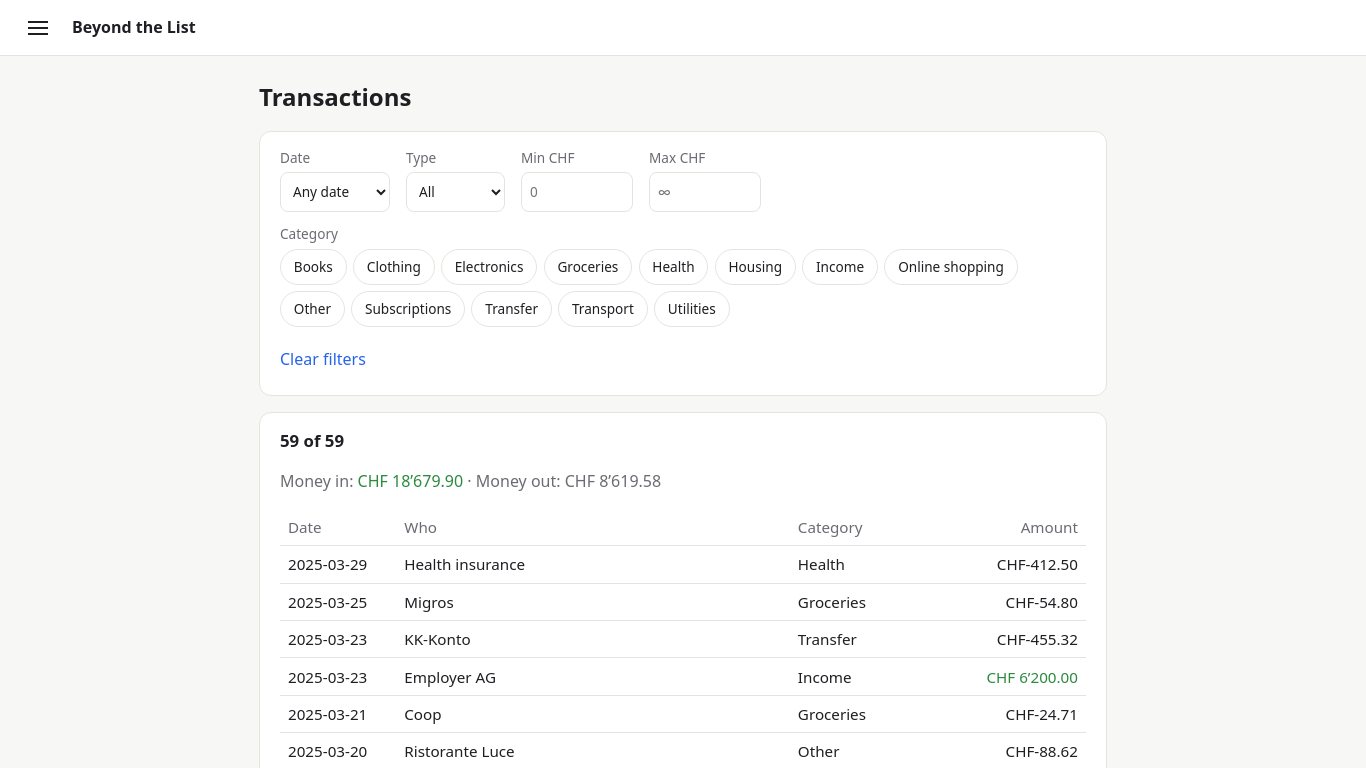
transactions filters › narrows the list by type, category and amount, and clears again
This screenshot has width=1366, height=768.
Expected: the heading "59 of 59" is shown, [280,429,344,452]
Select "Income" in the dropdown labelled "Type" at (456, 192), box [406,172,505,212]
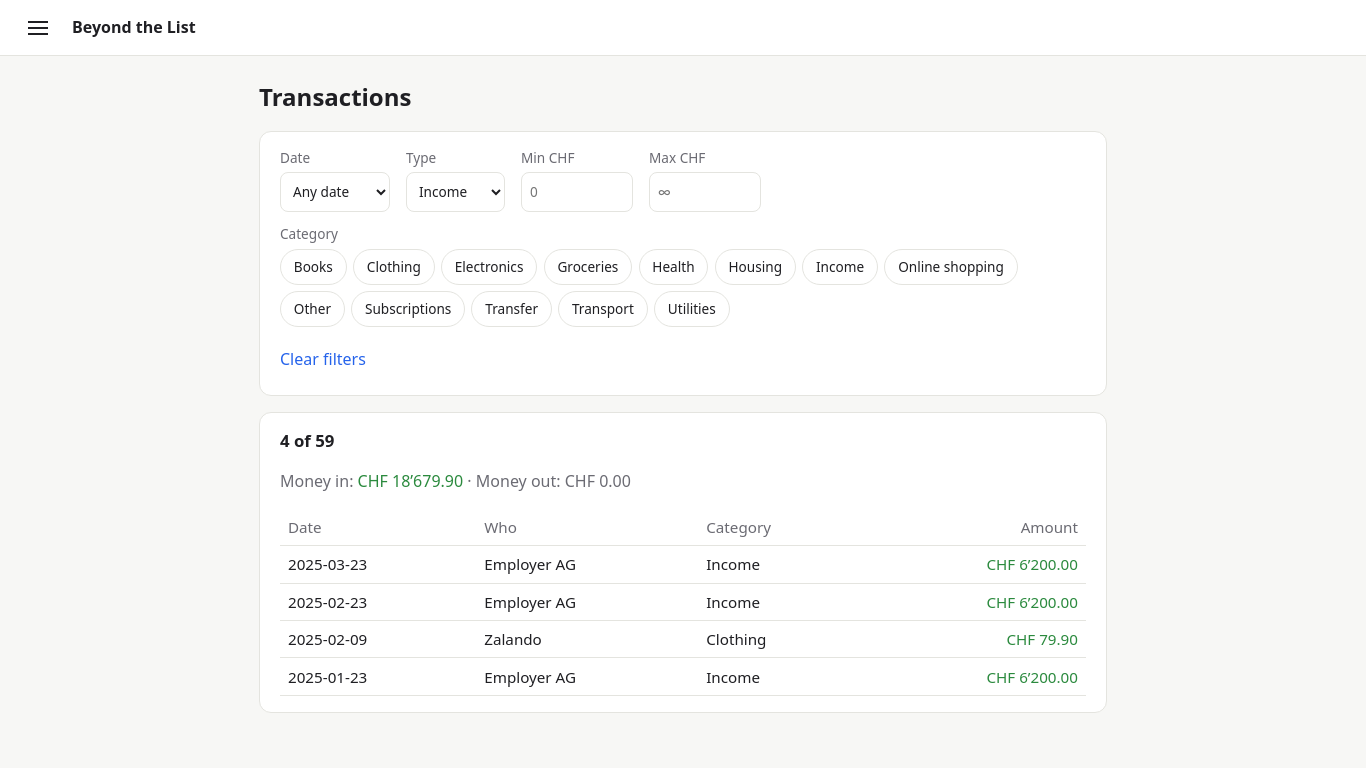
Now the heading "4 of 59" is shown, box [280,429,334,452]
Select "Spending" in the dropdown labelled "Type" at (456, 192), box [406,172,505,212]
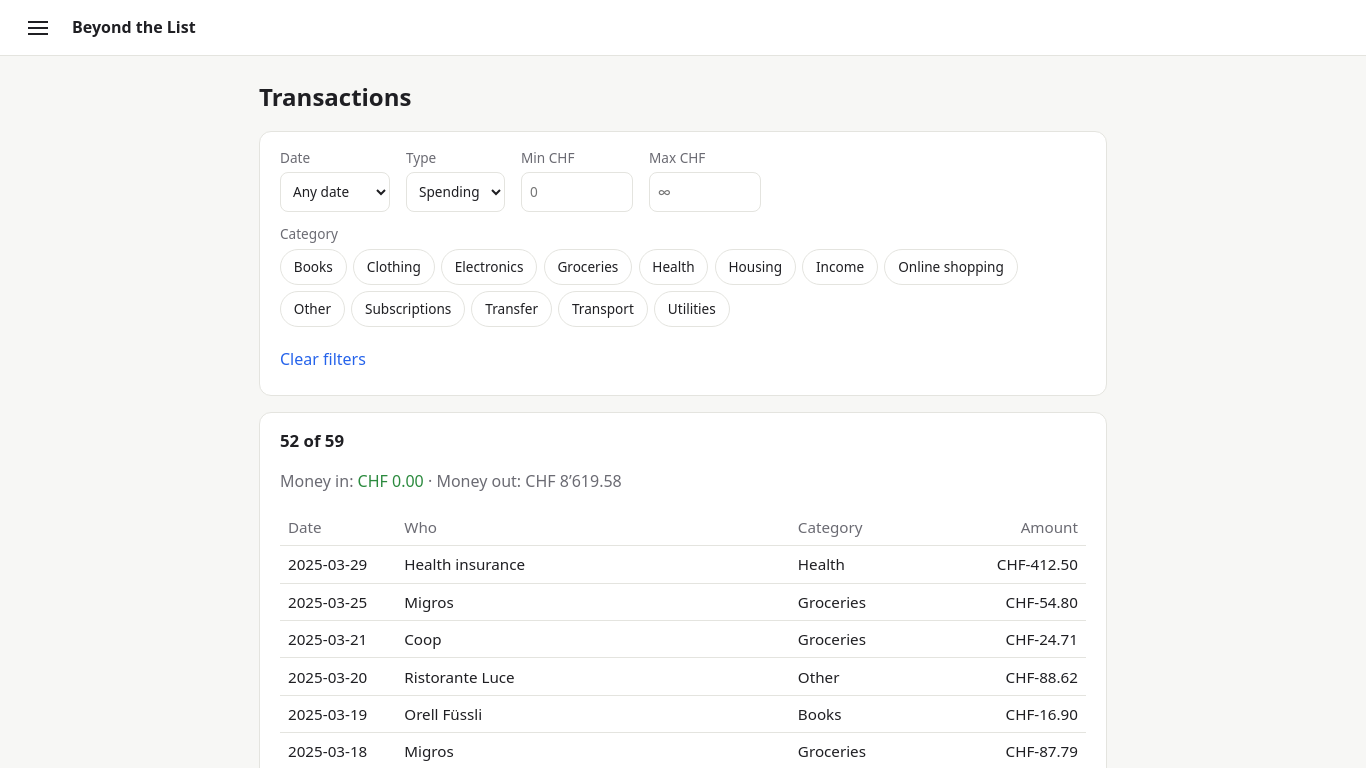
Click the button "Housing" at (755, 267), box [715,249,796,285]
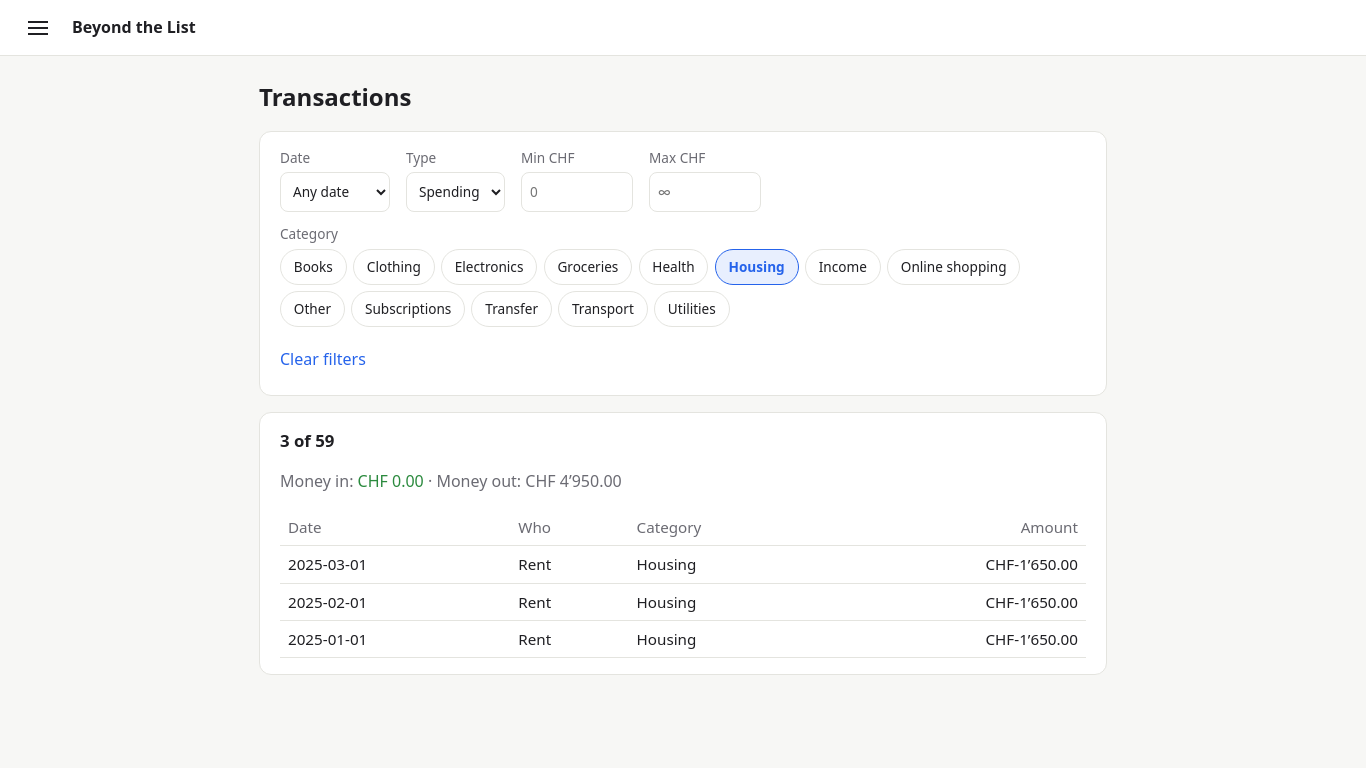
Now the heading "3 of 59" is shown, box [280,429,334,452]
Type "100" into the field labelled "Max CHF" at (705, 192), box [649,172,761,212]
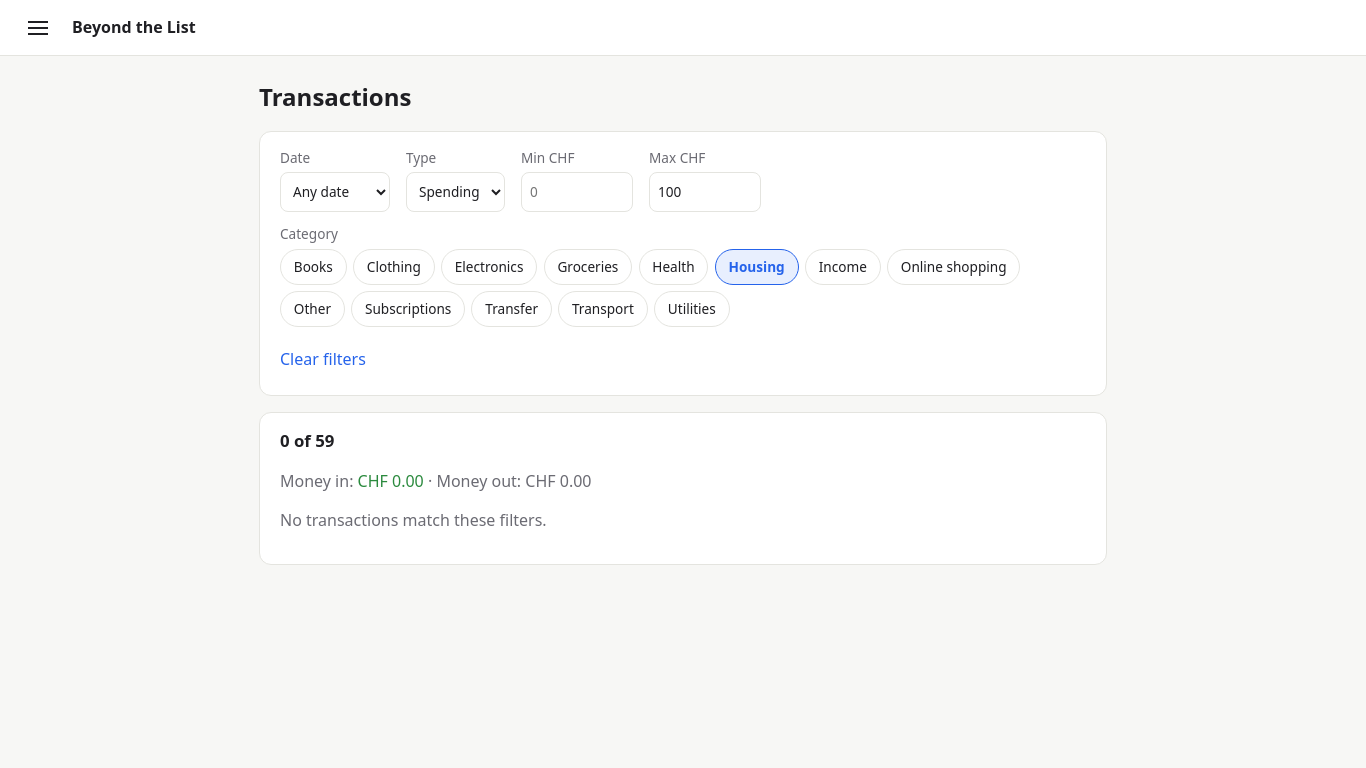
Now the text "No transactions match these filters." is shown, box [280,509,547,531]
Click the button "Clear filters" at (323, 359), box [280,339,366,379]
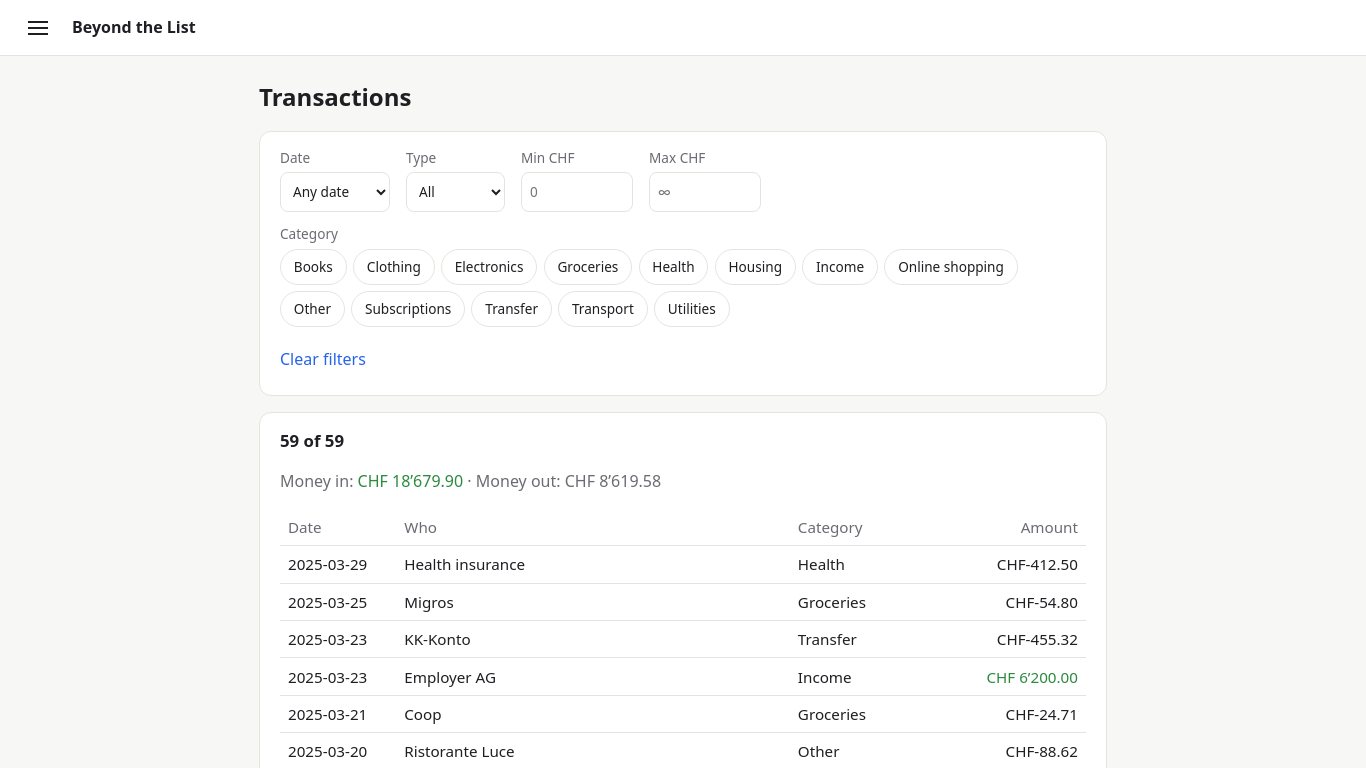
Now the heading "59 of 59" is shown, box [280,429,344,452]
